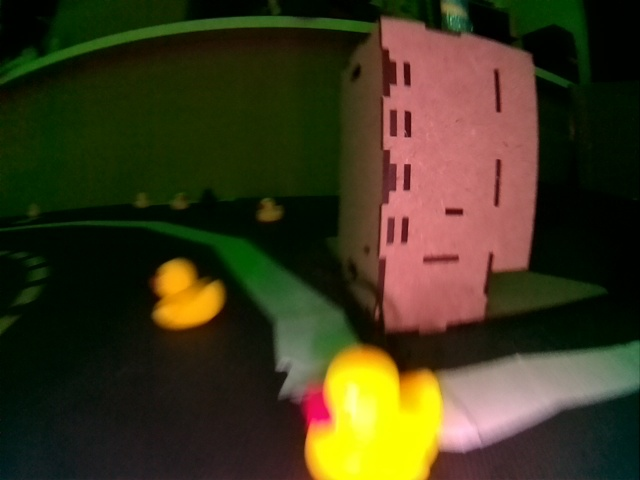Duckie: (306, 348, 439, 477), (152, 260, 222, 325), (259, 198, 282, 220), (171, 193, 185, 207), (135, 194, 147, 207), (30, 204, 36, 214)
